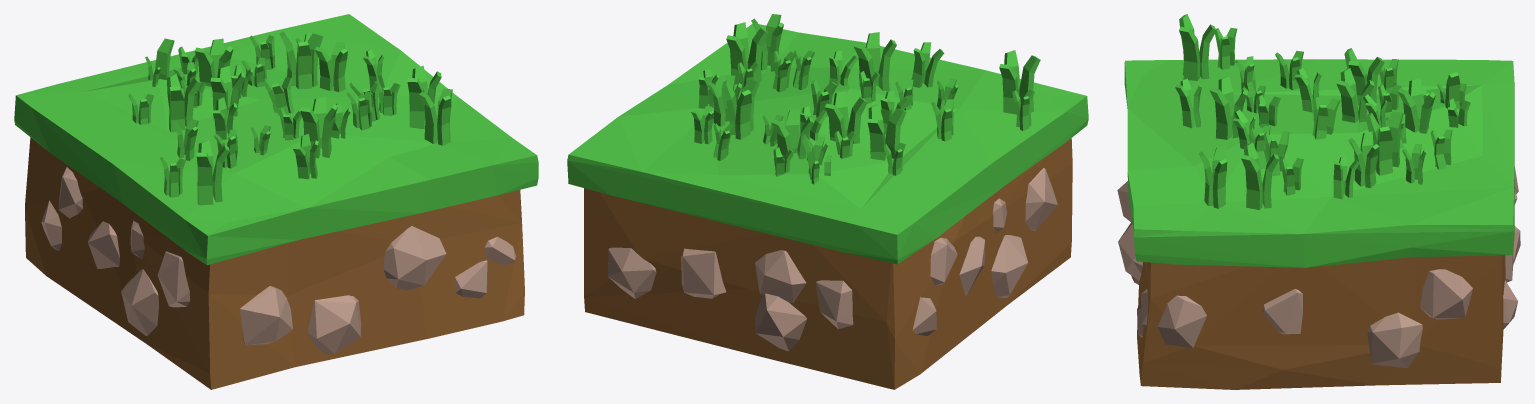
Rendered from GenericTile3.fbx.
3 renders of one model, left to right at view 1: azimuth 30°, elevation 25°; view 2: azimuth 150°, elevation 25°; view 3: azimuth 270°, elevation 25°, orthographic. The views are drawn at different scales.
Visible parts, largest first — view 1: Ground, Grass Blades, Rocks; view 2: Ground, Grass Blades, Rocks; view 3: Ground, Grass Blades, Rocks.
Boxes of the visible parts, x1,y1,x2,y2 form: Ground: [14, 14, 538, 389]; Grass Blades: [128, 31, 452, 205]; Rocks: [41, 167, 522, 354]; Ground: [567, 24, 1088, 389]; Grass Blades: [691, 14, 1040, 184]; Rocks: [608, 168, 1057, 351]; Ground: [1124, 59, 1514, 389]; Grass Blades: [1175, 14, 1470, 210]; Rocks: [1117, 167, 1520, 368].
Size of the model in its own units: 219 by 134 by 218.
